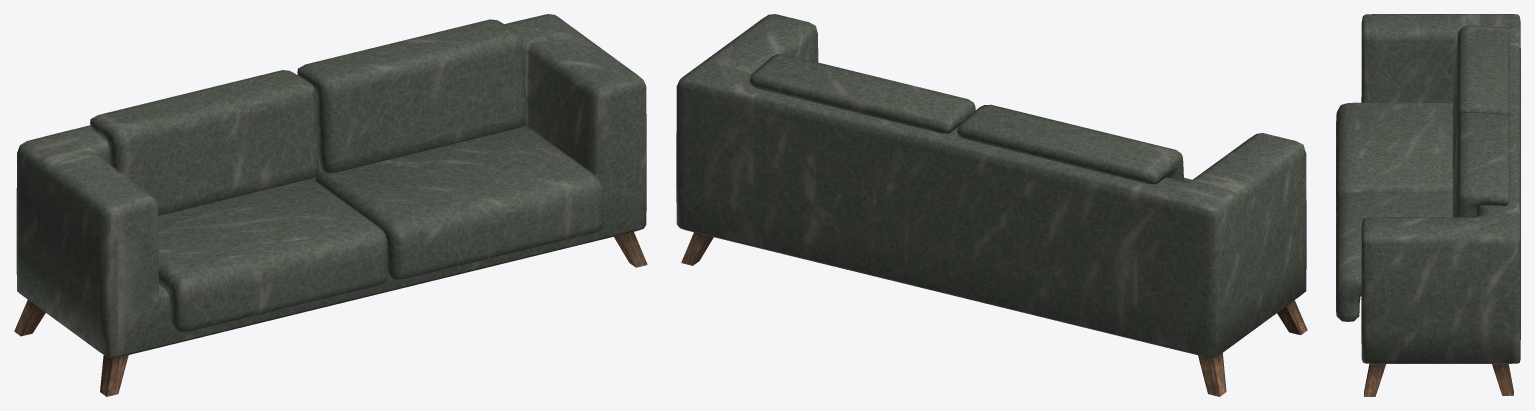
File: sofa.fbx
3 views of the same model, side by side, from view 1: azimuth 30°, elevation 25°; view 2: azimuth 150°, elevation 25°; view 3: azimuth 270°, elevation 25° (orthographic). The views are drawn at different scales.
Parts seen in each view (by area): view 1: Sofa; view 2: Sofa; view 3: Sofa.
Part boxes in pixels (x1,y1,x2,y2): Sofa: (14,14,647,396); Sofa: (676,14,1307,396); Sofa: (1336,14,1520,396).
Bounding box in the file's own units: 250 × 90.37 × 86.03.
Materials: 1 (1 with a texture image).
